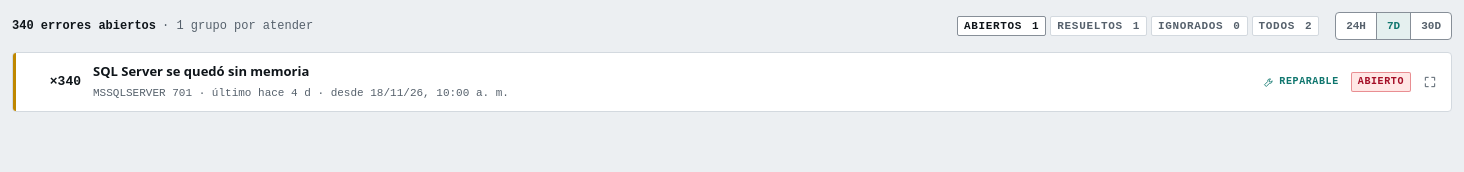
Test: Errores del equipo (decisión 91) › agrupa los repetidos y oculta los resueltos hasta pedirlos
Expected: the text "SQL Server se quedó sin memoria" is shown, [93,62,309,80]
Expected: the text "×340" is shown, [50,74,81,89]
Click the button "Resueltos 1": [1099, 26] box [1050,16,1147,36]
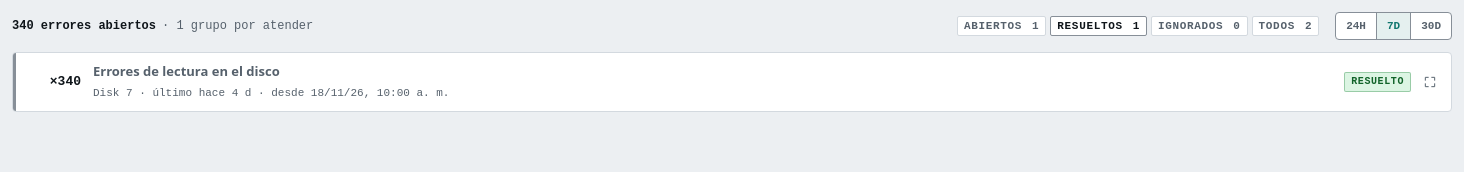
Expected: the text "Errores de lectura en el disco" is shown, [93,62,280,80]
